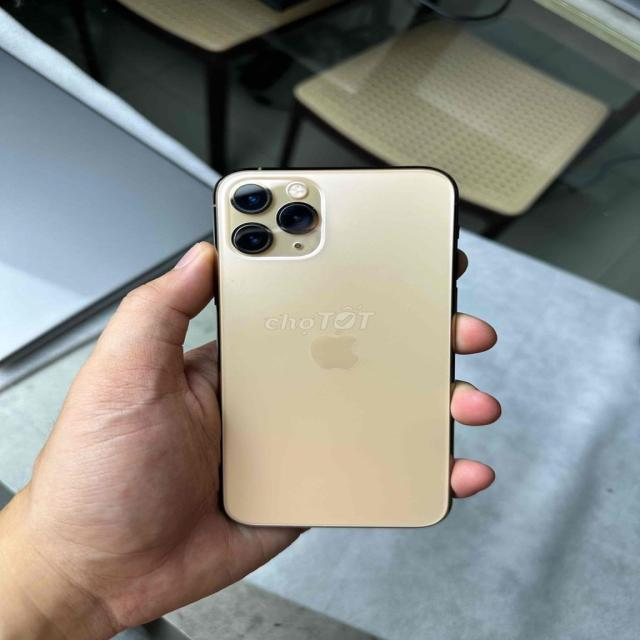gen_11: (202, 154, 472, 543)
